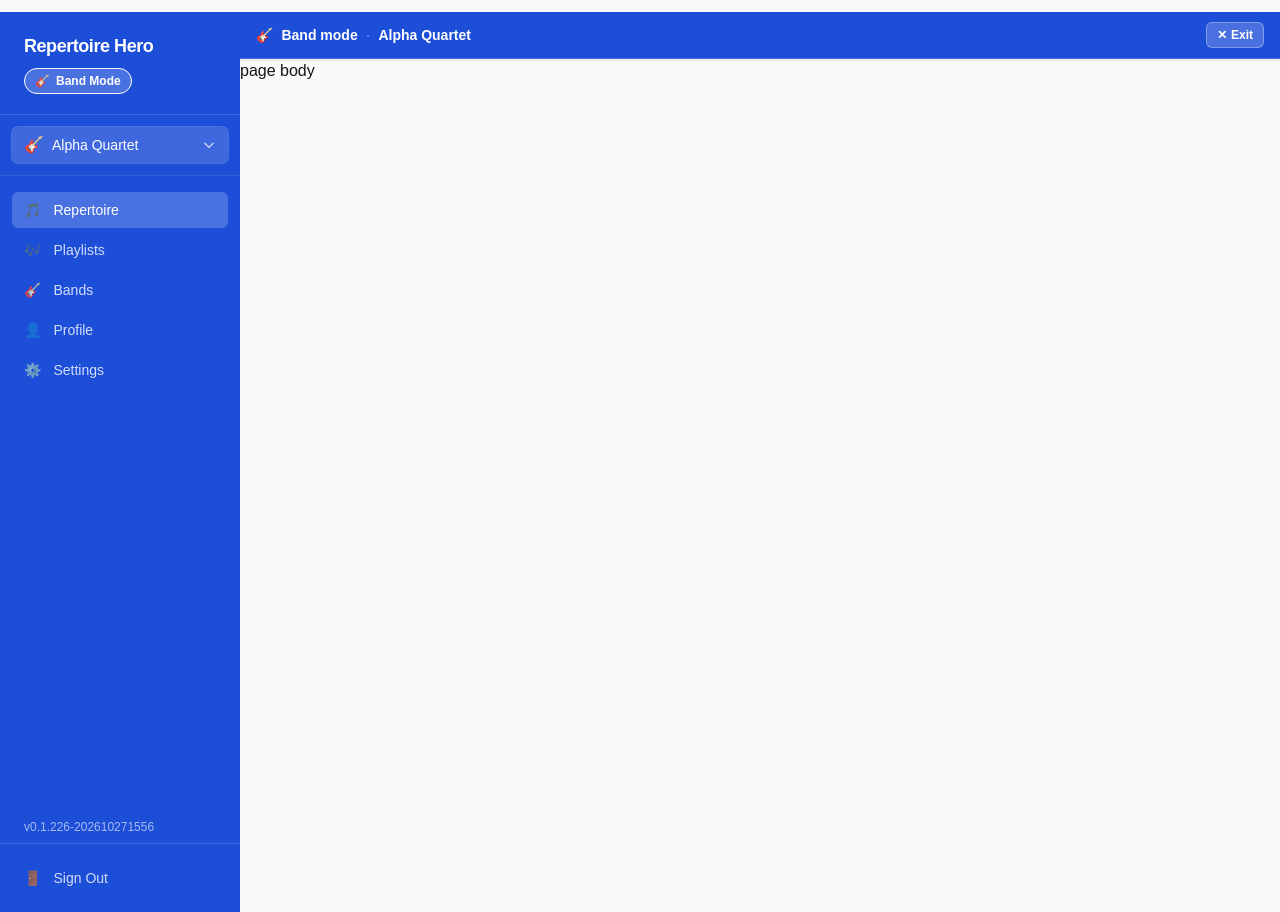
AppLayout band-mode indicator (RH-180) › exits band mode from the indicator
The width and height of the screenshot is (1280, 912).
Click the button "✕ Exit" at {"x": 1235, "y": 35}, box [1206, 22, 1264, 48]
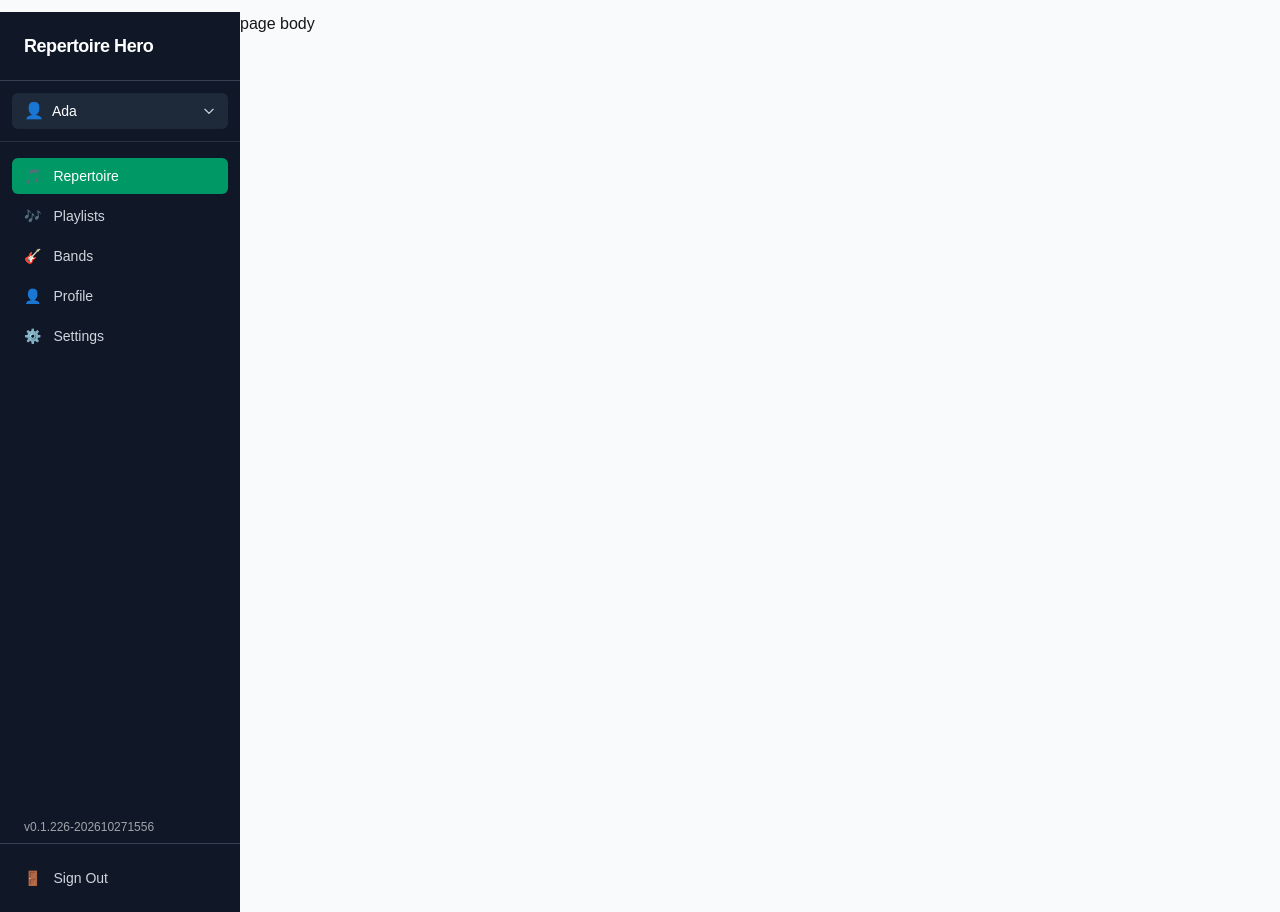
Expected: the element with test id "band-indicator" is gone
